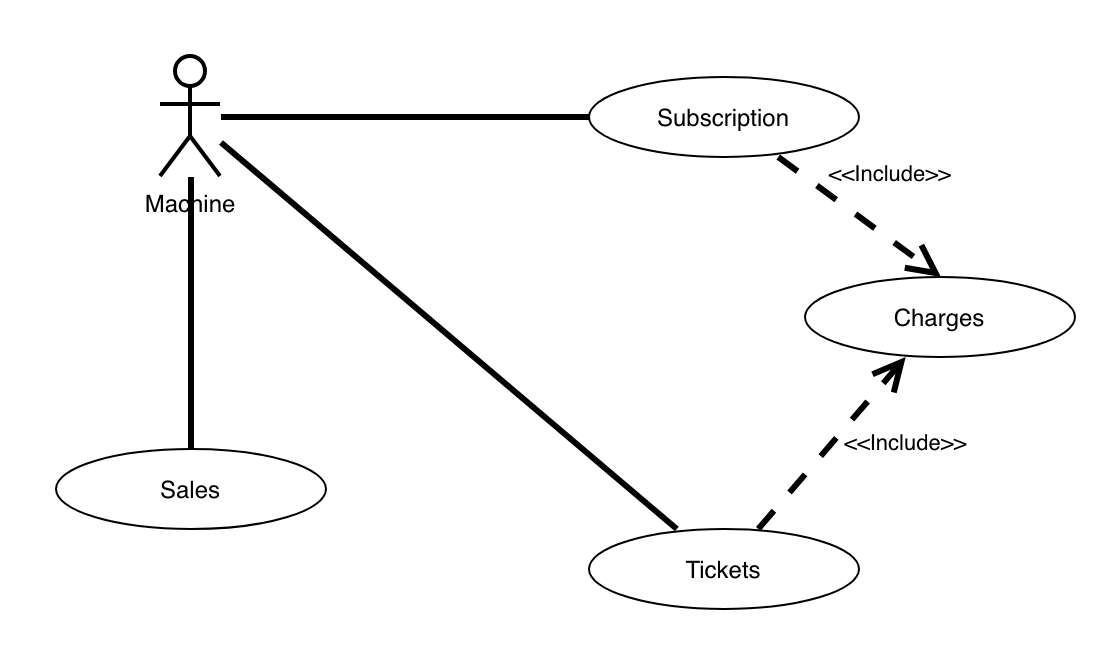actor: (157, 49, 222, 180)
association: (220, 140, 680, 531), (756, 356, 908, 533), (774, 152, 942, 280), (220, 90, 589, 134), (169, 178, 219, 447)
text: (675, 552, 787, 600), (645, 103, 807, 136), (886, 293, 992, 338), (841, 427, 974, 462), (826, 159, 961, 187), (134, 190, 242, 220), (152, 473, 230, 510)
use_case: (585, 74, 861, 160), (803, 274, 1079, 360), (53, 447, 328, 533), (586, 528, 861, 612)
